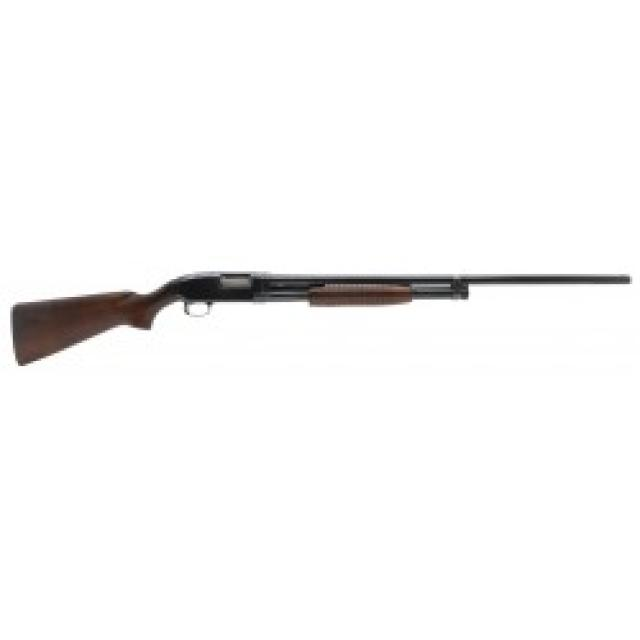ShotGun: (15, 271, 635, 366)
